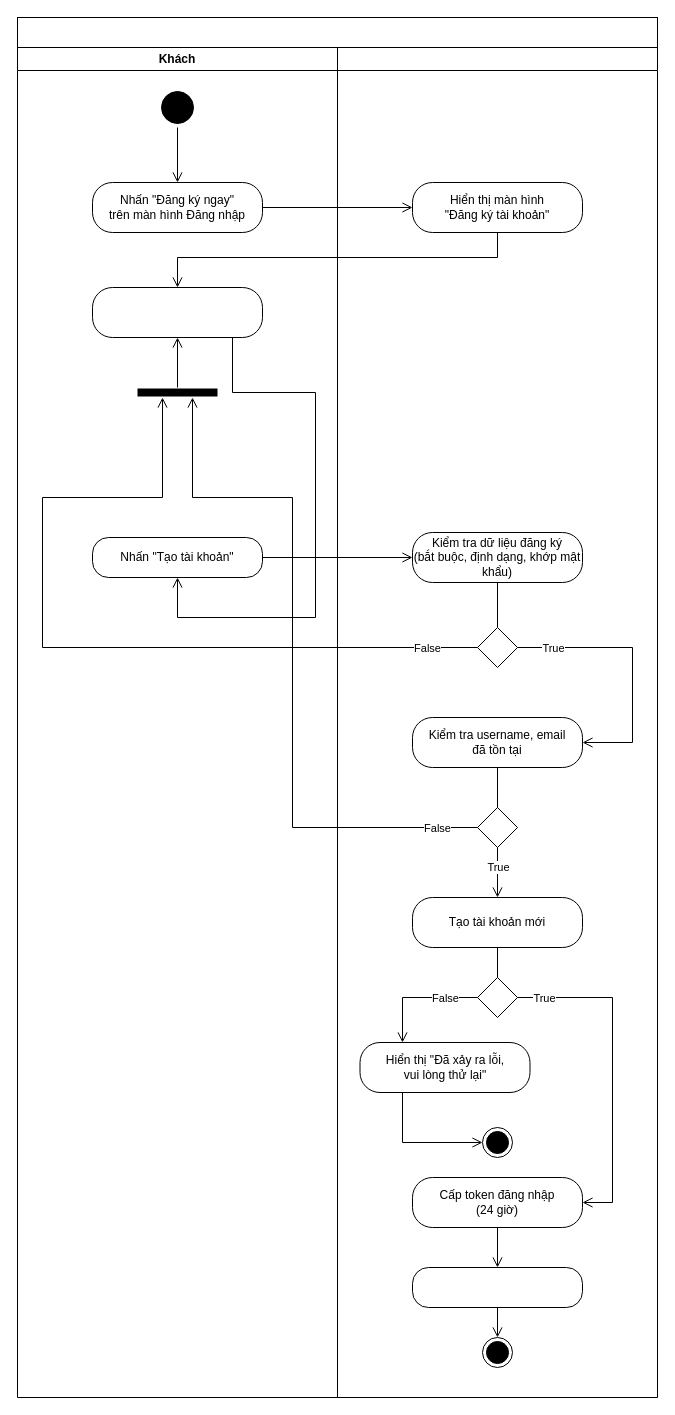
Some shapes in this 675 by 1415 pixel diagram are drawn without their labels. The box of each missing label's shape, as (x1, y1, x2, y2) in pixels:
Chuyển về trang chủ: (412, 1266, 582, 1308)
Hệ thống: (336, 46, 658, 1398)
Nhập họ tên, username, email, mật khẩu, xác nhận mật khẩu: (92, 286, 262, 338)
ĐĂNG KÝ: (16, 16, 658, 48)
